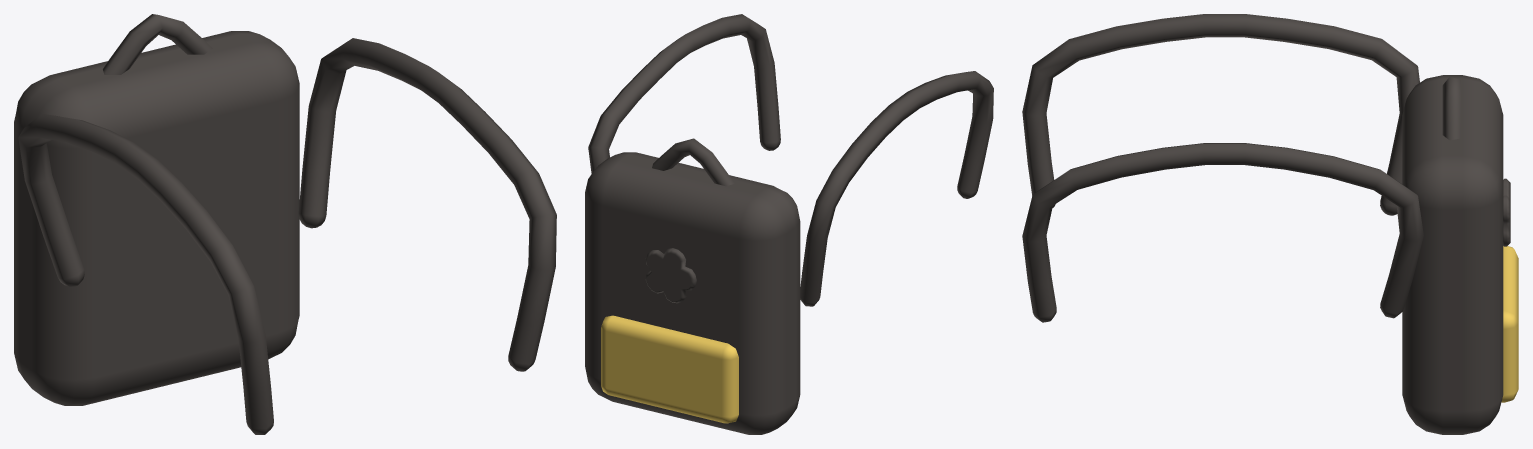
Rendered from botanical_print_backpack.glb.
3 renders of one model, left to right at view 1: azimuth 30°, elevation 25°; view 2: azimuth 150°, elevation 25°; view 3: azimuth 270°, elevation 25°, orthographic. The views are drawn at different scales.
Parts seen in each view (by area): view 1: botanical_print_backpack_Body; view 2: botanical_print_backpack_Body; view 3: botanical_print_backpack_Body.
Boxes of the visible parts, x1=… form: botanical_print_backpack_Body: x1=14, y1=14, x2=556, y2=434; botanical_print_backpack_Body: x1=585, y1=14, x2=993, y2=434; botanical_print_backpack_Body: x1=1022, y1=14, x2=1518, y2=434.
Bounding box in the file's own units: 0.327 × 0.3445 × 0.4902.
